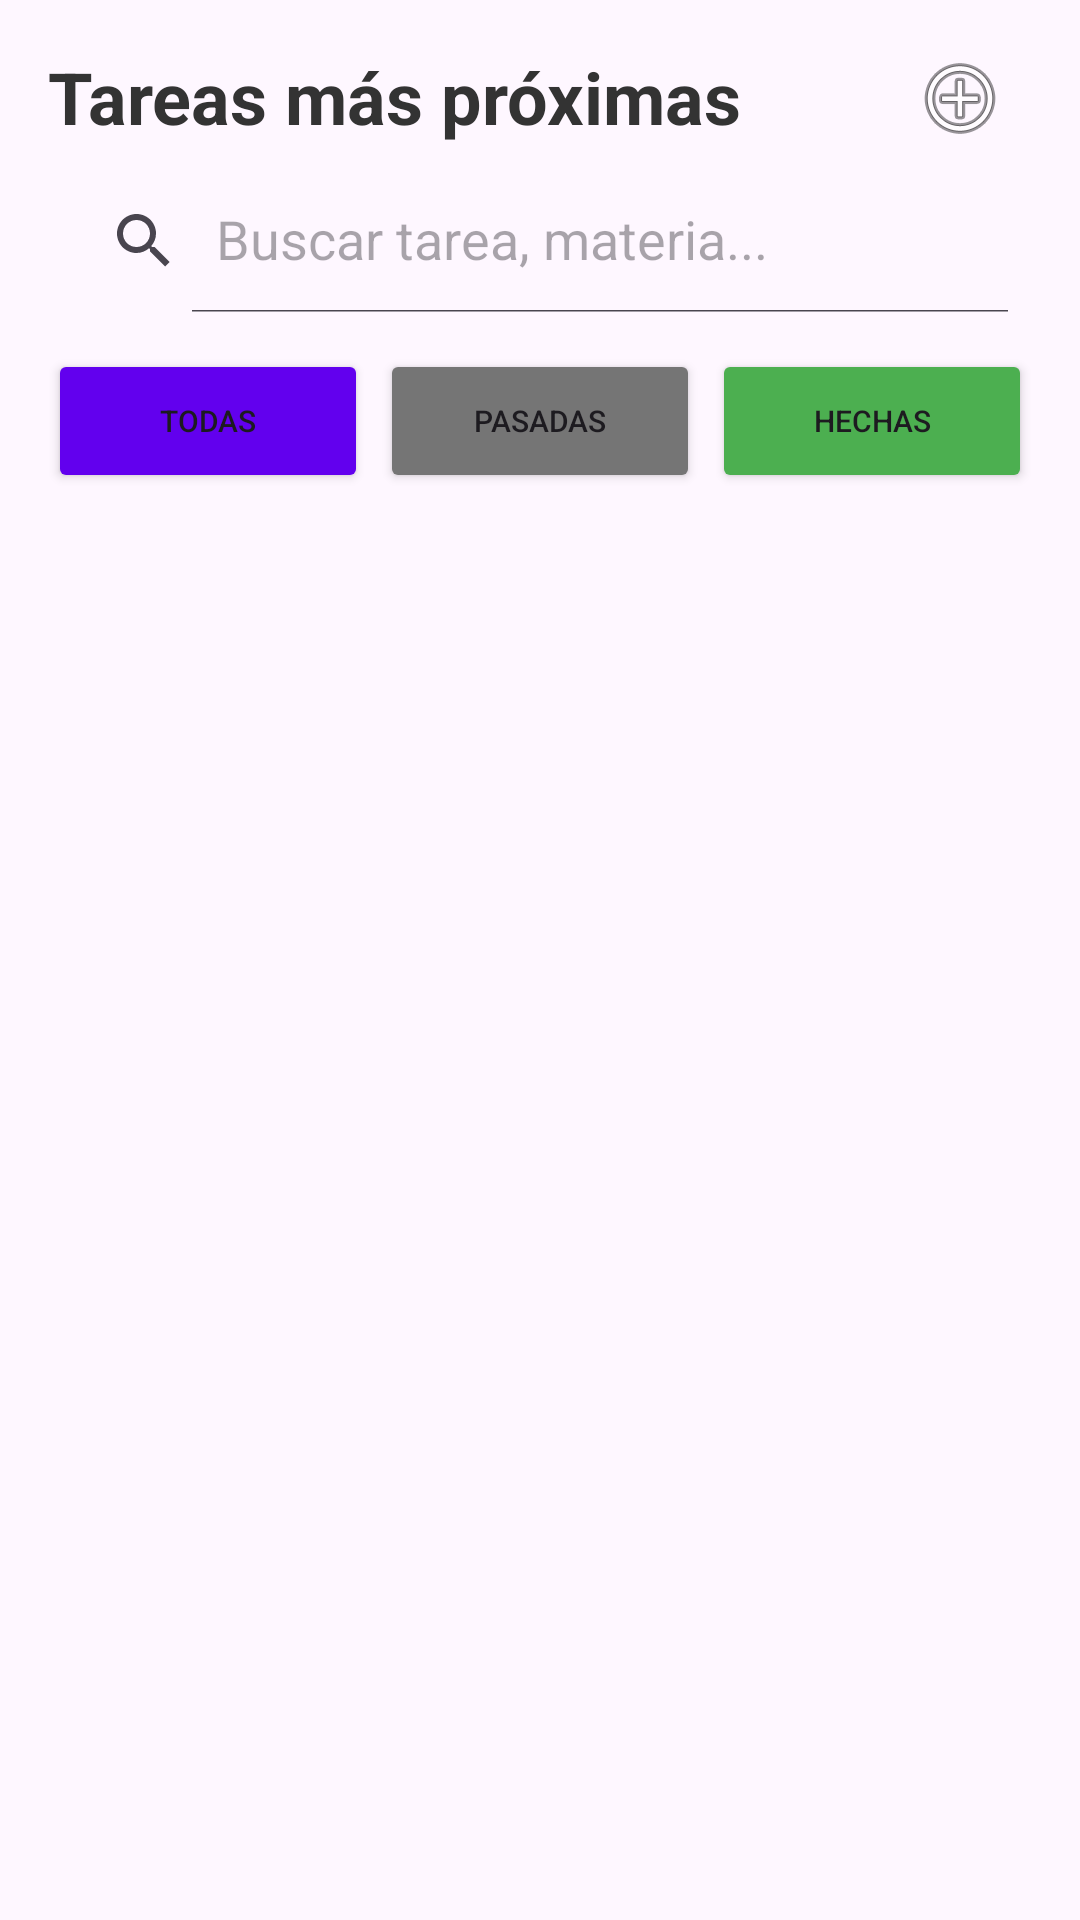

Icons on this 1080×1920 Android screen, each with its box as bbox(x1, y1, x2, y2):
add: bbox(924, 63, 996, 134)
